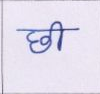i_matra: (52, 21, 65, 51)
